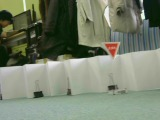stop: (101, 40, 121, 59)
